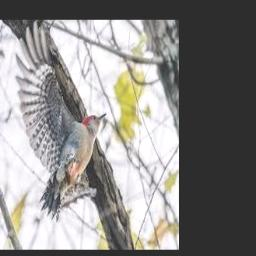Woodpecker: (16, 20, 106, 220)
